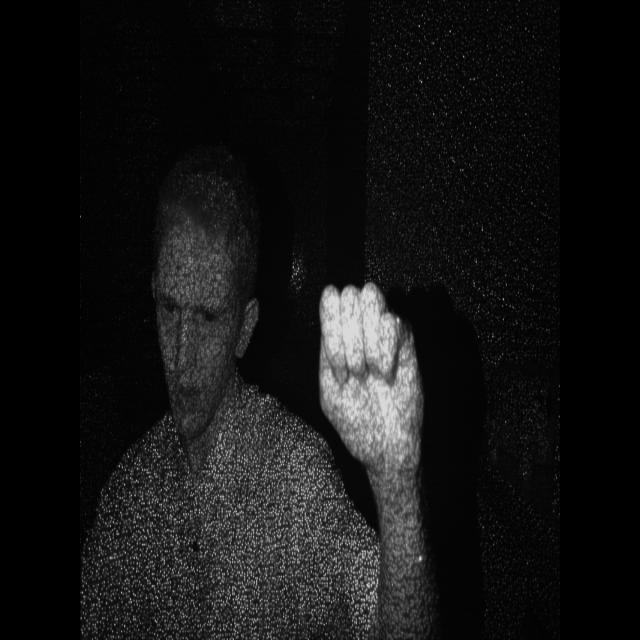M: (308, 265, 433, 465)
